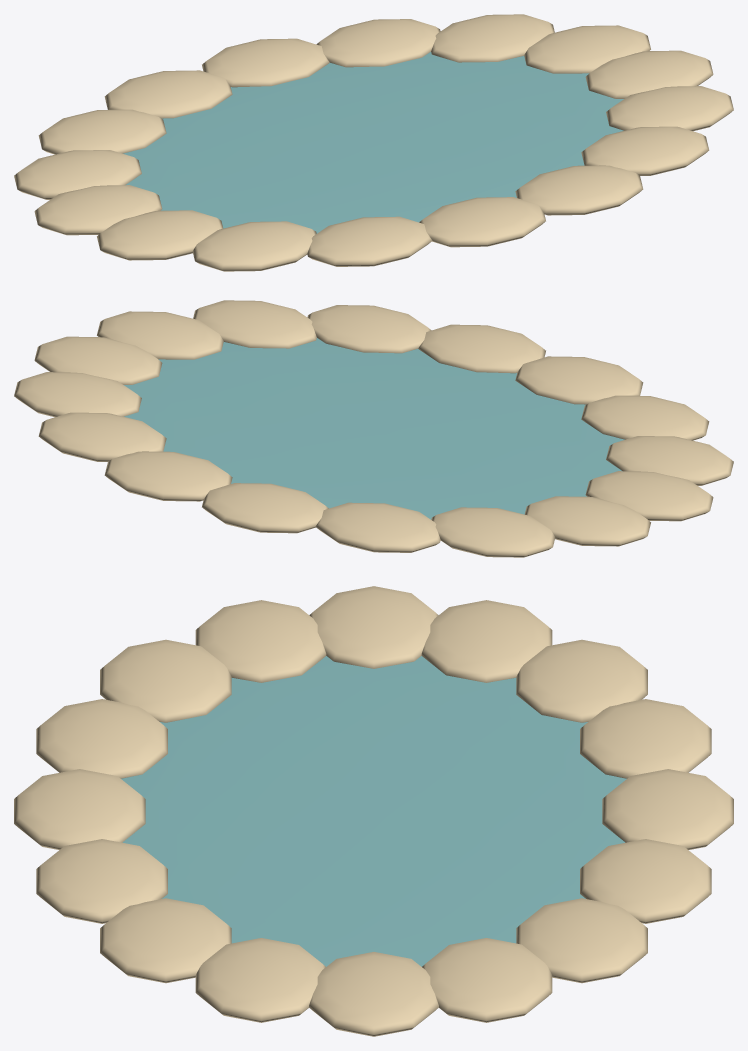
Rendered from outback-and-australian-wildlife-billabong-pool-b696ecc2__5932.glb.
3 renders of one model, top to bottom at view 1: azimuth 30°, elevation 25°; view 2: azimuth 150°, elevation 25°; view 3: azimuth 270°, elevation 25°, orthographic. The views are drawn at different scales.
Parts seen in each view (by area): view 1: billabong-pool; view 2: billabong-pool; view 3: billabong-pool.
Boxes of the visible parts, x1,y1,x2,y2 form: billabong-pool: (14,14,733,271); billabong-pool: (14,300,733,557); billabong-pool: (14,586,733,1036).
Bounding box in the file's own units: 6.1 × 0.1802 × 4.16.
